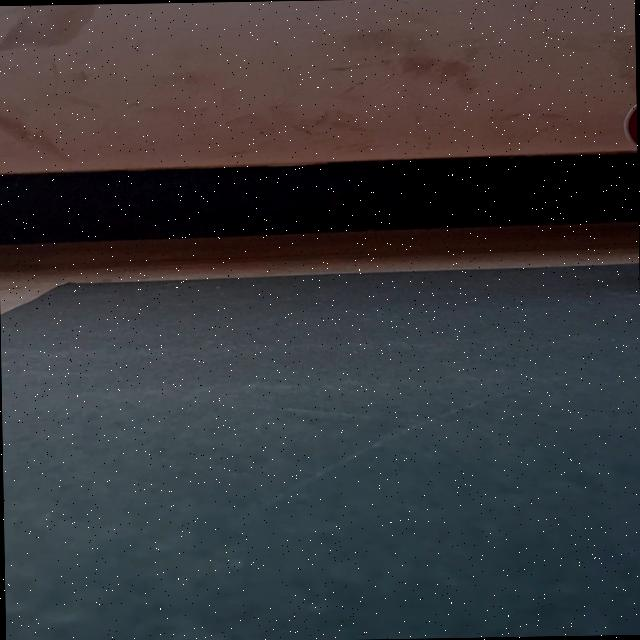Speed20: (616, 80, 638, 170)
